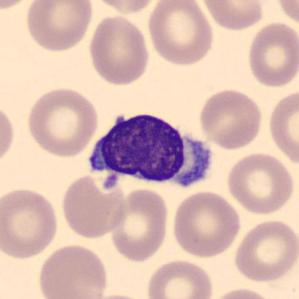Lymphocyte: (81, 104, 215, 194)
RBC: (24, 84, 101, 158), (169, 190, 243, 260), (86, 13, 152, 87), (109, 186, 171, 264), (58, 171, 128, 240), (145, 0, 216, 68), (224, 150, 297, 216), (0, 185, 61, 261), (197, 85, 265, 150), (232, 218, 298, 284), (36, 242, 110, 299), (23, 0, 95, 54), (245, 20, 298, 89), (145, 257, 215, 299), (266, 88, 299, 168), (198, 0, 266, 32), (87, 0, 161, 16), (0, 102, 16, 168), (208, 286, 278, 299), (274, 0, 298, 29), (86, 291, 154, 299), (0, 0, 36, 11)
